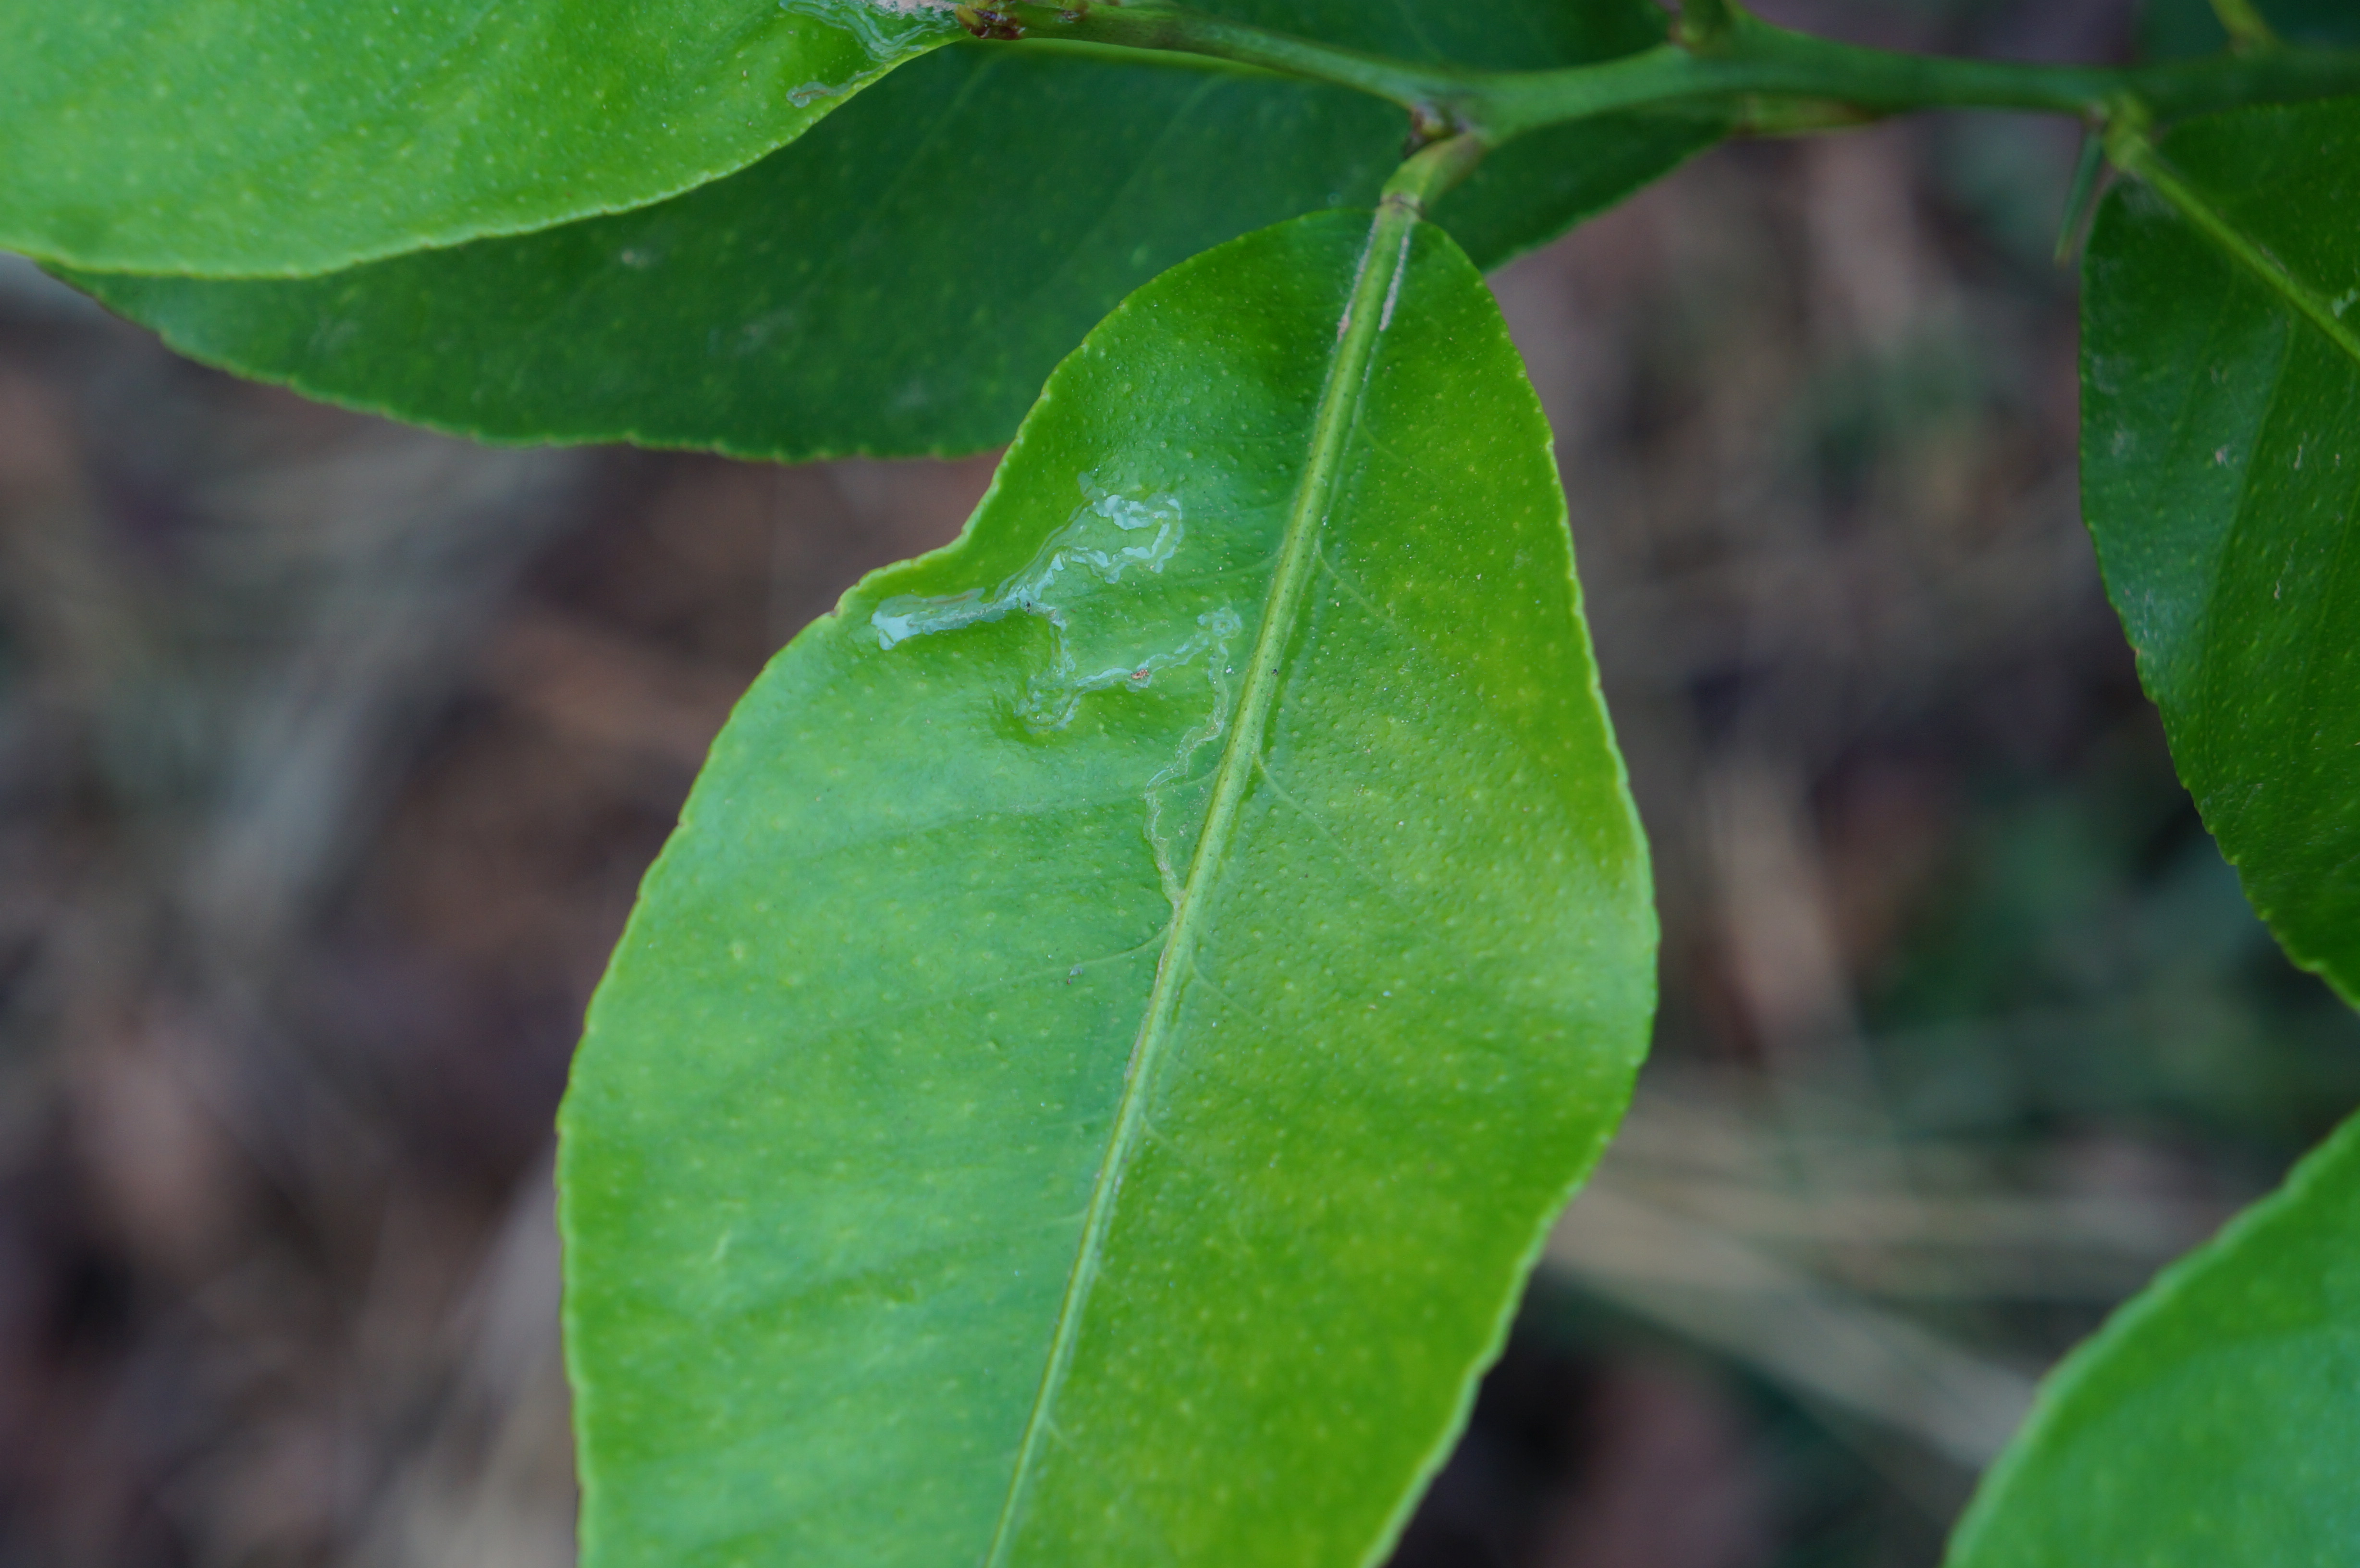damage: (859, 450, 1286, 990)
